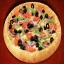pizza: (2, 1, 62, 56)
